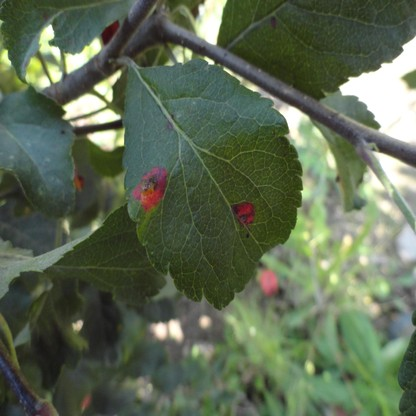rust: (133, 168, 168, 211), (231, 200, 255, 228), (73, 166, 83, 192)
